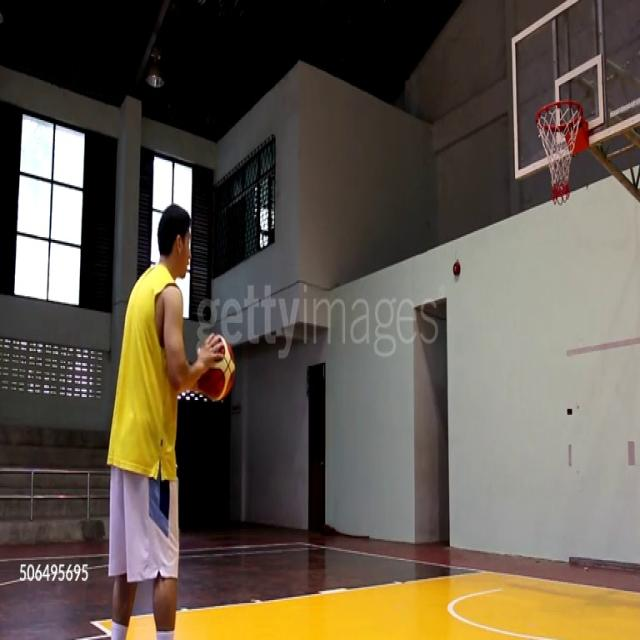ball: (195, 333, 237, 403)
